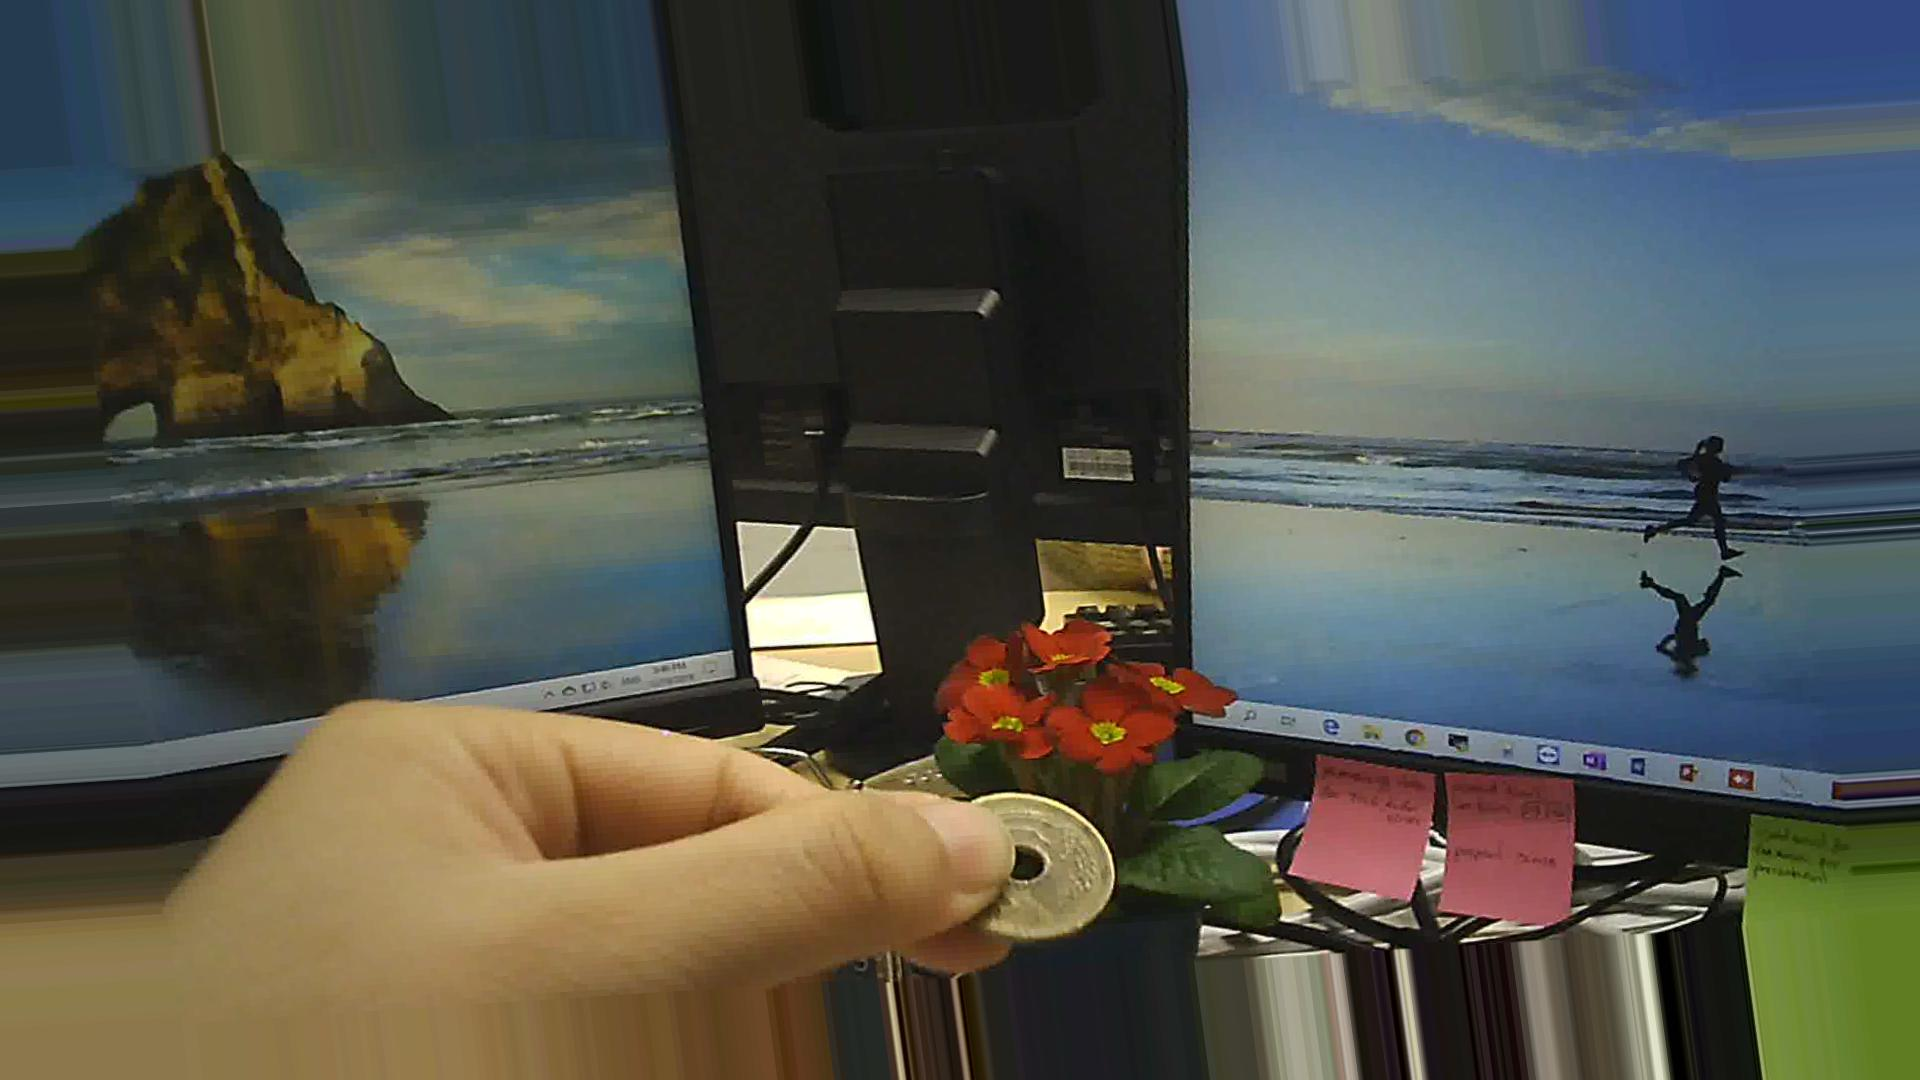5 Yen: (930, 774, 1124, 949)
